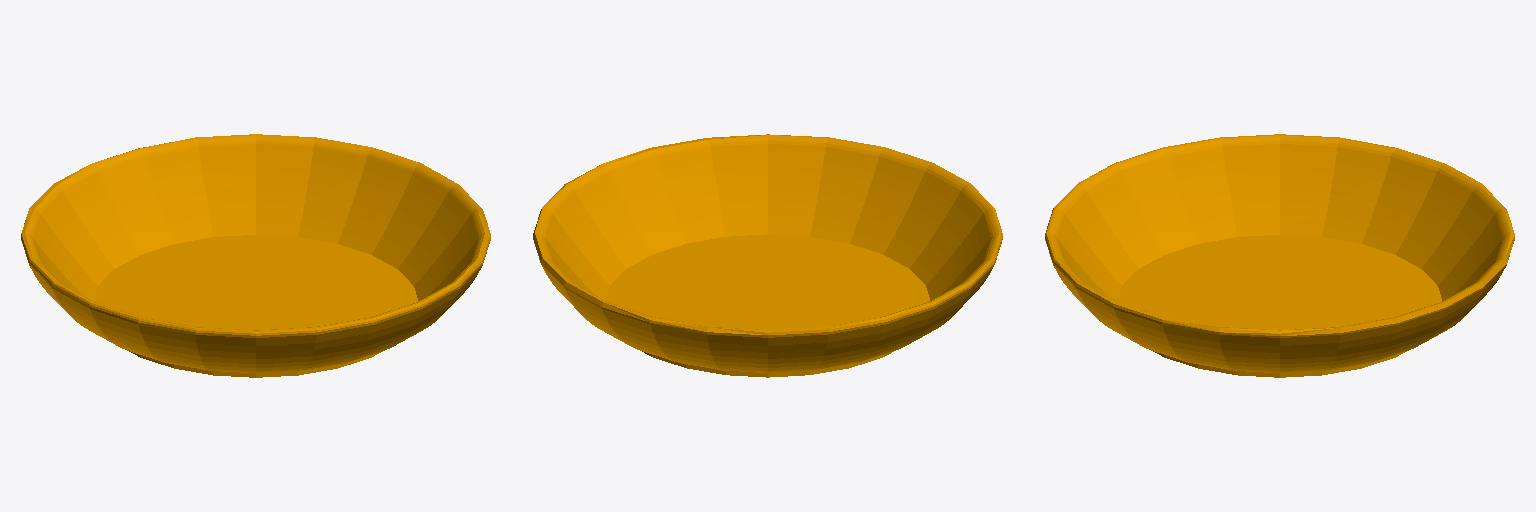
robot.urdf — bowl_model:
<robot name="bowl_model">
  <link name="bowl">
    <inertial>
      <mass value="0.1" />
      <!-- center of mass (com) is defined w.r.t. link local coordinate system -->
      <origin xyz="0 0 0" /> 
      <inertia  ixx="0.1" ixy="0.0"  ixz="0.0"  iyy="0.1"  iyz="0.0"  izz="0.1" />
    </inertial>
    <visual>
      <!-- visual origin is defined w.r.t. link local coordinate system -->
      <origin xyz="0 0 0" rpy="0 0 0" />
      <geometry>
        <mesh filename="package://object_detection/objects/bowl/bowl.stl"/>
      </geometry>
    </visual>
    <collision>
      <!-- collision origin is defined w.r.t. link local coordinate system -->
      <origin xyz="0 0 0" rpy="0 0 0" />
      <geometry>
        <mesh filename="package://object_detection/objects/bowl/bowl.stl"/>
      </geometry>
    </collision>
  </link>
  <gazebo reference="bowl">
    <turnGravityOff>false</turnGravityOff>
  </gazebo>
</robot>

--- Render facts (derived) ---
Views: 3 orthographic renders of the robot side by side, from view 1: azimuth 30°, elevation 25°; view 2: azimuth 150°, elevation 25°; view 3: azimuth 270°, elevation 25°.
Robot: bowl_model — 1 links, 0 joints (none); root link bowl; default pose: all joints at 0.
Links seen in each view (by area): view 1: bowl; view 2: bowl; view 3: bowl.
Link boxes in pixels (box(x1,y1,x2,y2)): bowl: box(21, 134, 490, 377); bowl: box(533, 134, 1002, 377); bowl: box(1045, 134, 1514, 377).
Bounding box of the posed robot: 0.1956 × 0.1956 × 0.0349 m (x, y, z).
1 mesh visuals loaded from 1 distinct referenced files (1 binary STL).